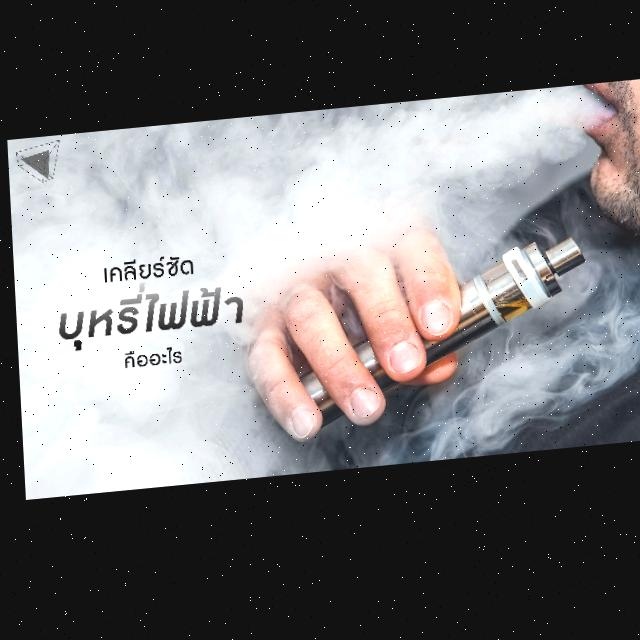vape: (290, 245, 588, 437)
